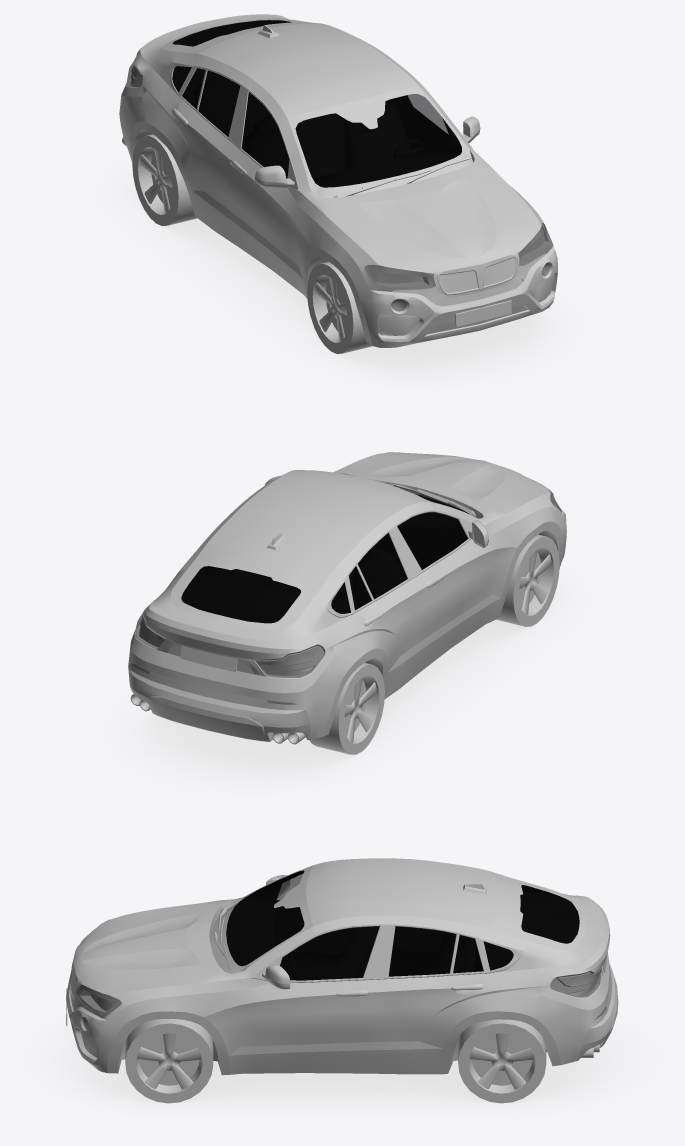
The picture shows the model from 3 angles, top to bottom: view 1: azimuth 30°, elevation 25°; view 2: azimuth 150°, elevation 25°; view 3: azimuth 270°, elevation 25°; orthographic projection. The views are drawn at different scales.
Parts seen in each view (by area): view 1: Body_Body_0, Glass_Glass_0, Shadow_Shadow_0, Details_Texture_0, Interior_Interior_0, Wheel_RR_Texture_0, Wheel_FR_Texture_0; view 2: Body_Body_0, Shadow_Shadow_0, Details_Texture_0, Glass_Glass_0, Interior_Interior_0, Wheel_RR_Texture_0, Wheel_FR_Texture_0; view 3: Body_Body_0, Shadow_Shadow_0, Glass_Glass_0, Interior_Interior_0, Details_Texture_0, Wheel_FL_Texture_0, Wheel_RL_Texture_0.
Boxes of the visible parts, x1,y1,x2,y2 form: Body_Body_0: [119, 14, 557, 347]; Glass_Glass_0: [126, 20, 553, 311]; Shadow_Shadow_0: [117, 169, 562, 383]; Details_Texture_0: [126, 19, 554, 335]; Interior_Interior_0: [172, 20, 461, 187]; Wheel_RR_Texture_0: [132, 134, 197, 225]; Wheel_FR_Texture_0: [307, 261, 372, 353]; Body_Body_0: [128, 452, 566, 741]; Shadow_Shadow_0: [124, 576, 569, 787]; Details_Texture_0: [128, 473, 558, 741]; Glass_Glass_0: [132, 452, 561, 704]; Interior_Interior_0: [181, 495, 469, 623]; Wheel_RR_Texture_0: [309, 662, 384, 754]; Wheel_FR_Texture_0: [496, 534, 559, 626]; Body_Body_0: [66, 858, 618, 1075]; Shadow_Shadow_0: [48, 1023, 636, 1112]; Glass_Glass_0: [76, 871, 606, 1028]; Interior_Interior_0: [226, 870, 579, 980]; Details_Texture_0: [66, 865, 617, 1074]; Wheel_FL_Texture_0: [125, 1019, 213, 1103]; Wheel_RL_Texture_0: [458, 1019, 546, 1103].
Bounding box in the file's own units: 2.95 × 1.66 × 5.65.
